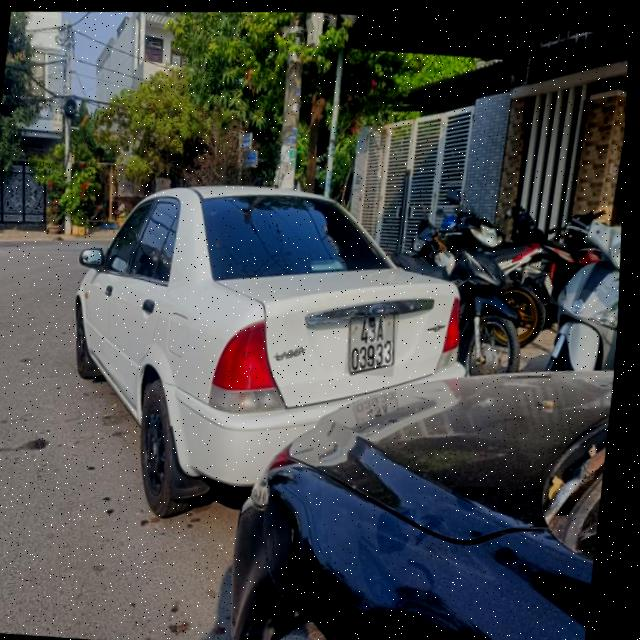car: (48, 166, 511, 545)
motorcycle: (431, 220, 550, 388)
plate: (332, 307, 408, 381)
